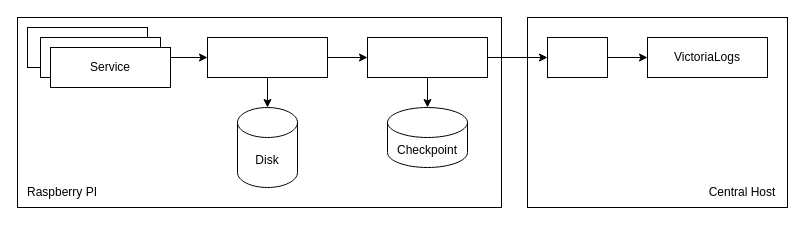
This 805x225 diagram has some shape labels left out. Here are the shapes that lost their labels. From the top down, the centre of each, then its label:
At [267,57]: "journald".
At [427,57]: "journald-upload".
At [577,57]: "vmauth".
